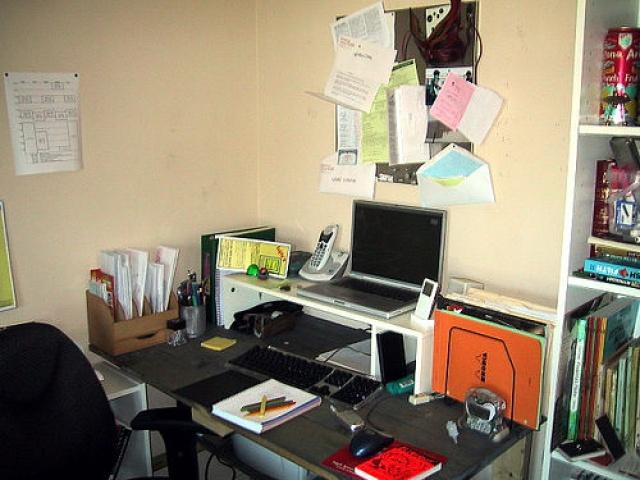Rak: (540, 0, 639, 479)
